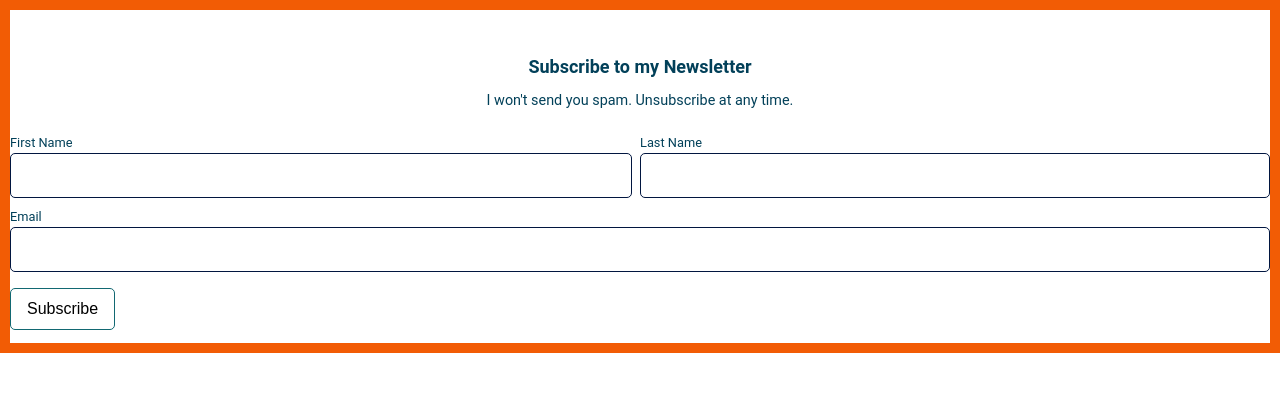
Newsletter › should display generic error message
This screenshot has width=1280, height=418.
In the field with test id "firstName": {"x": 321, "y": 176} [10, 153, 632, 198], type "bob"
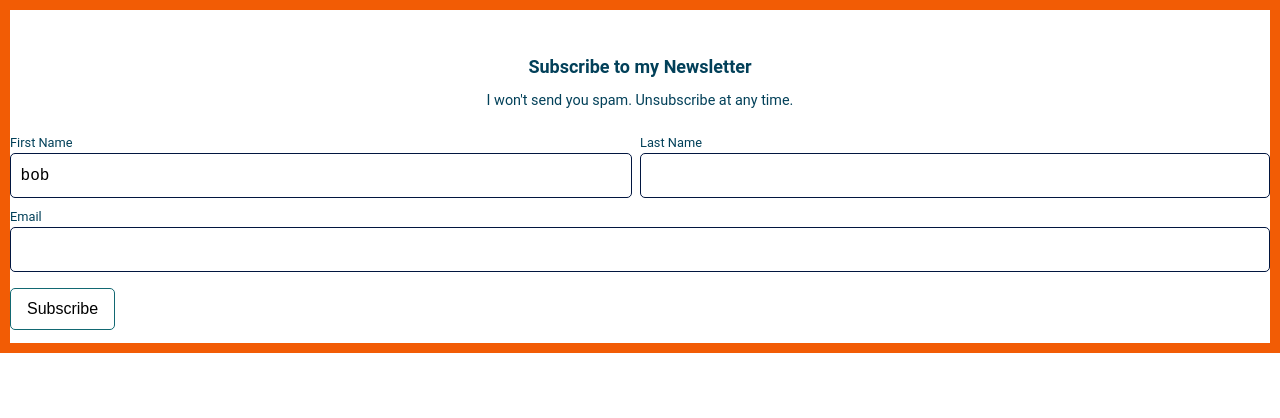
In the field with test id "lastName": {"x": 955, "y": 176} [640, 153, 1270, 198], type "john"
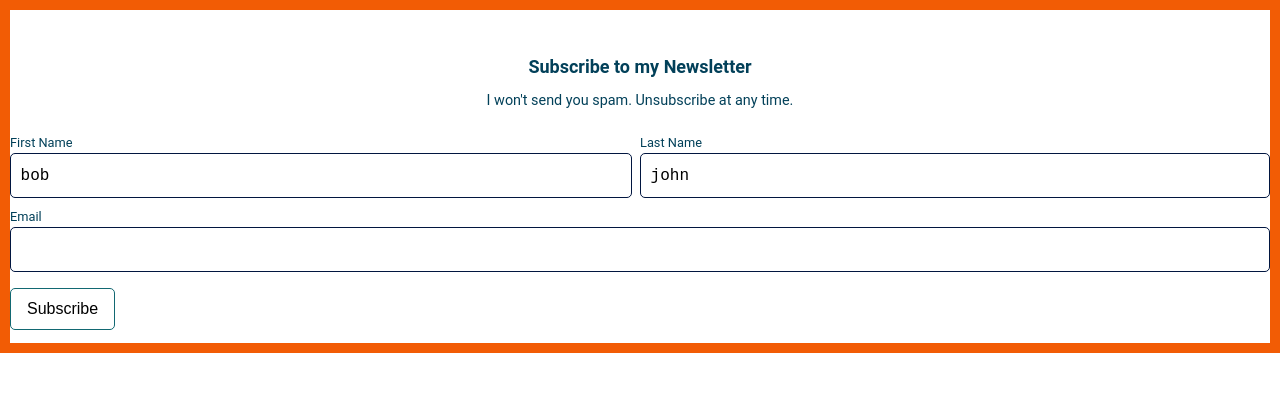
In the field with test id "email": {"x": 640, "y": 250} [10, 227, 1270, 272], type "bob@gmail.com"
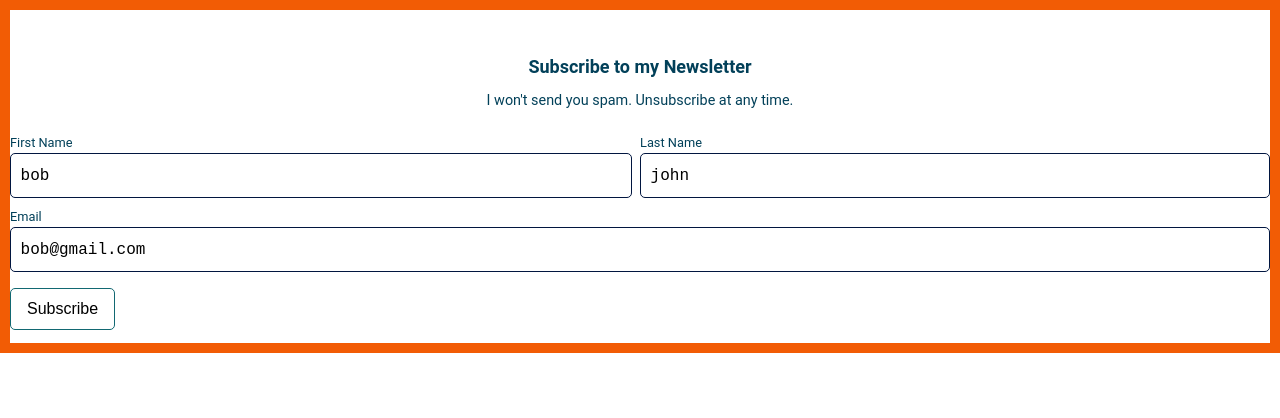
Click the button with test id "submit": {"x": 63, "y": 309} [10, 288, 115, 330]
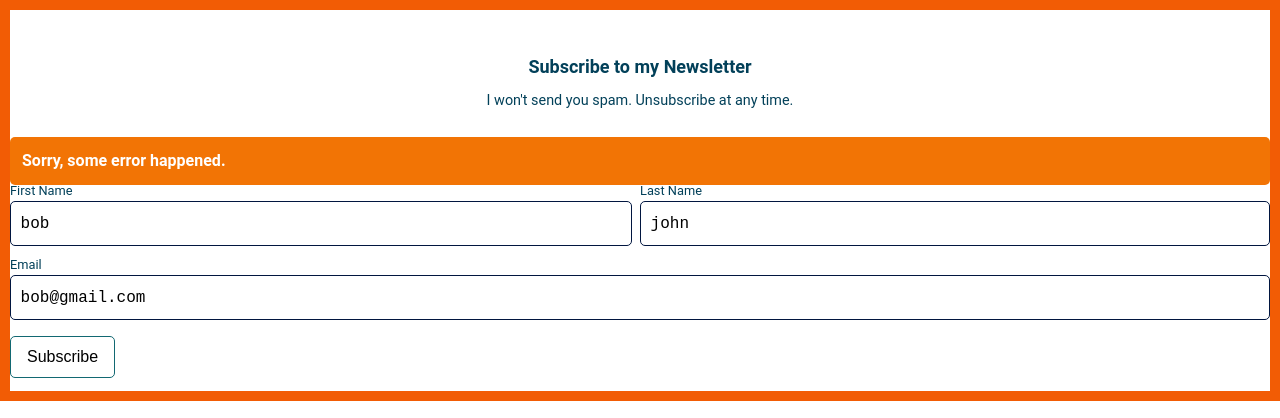
Check: the button with test id "submit" is shown, box [10, 336, 115, 378]
Check: the text "Sorry, some error happened." is shown, box [10, 137, 1270, 185]
